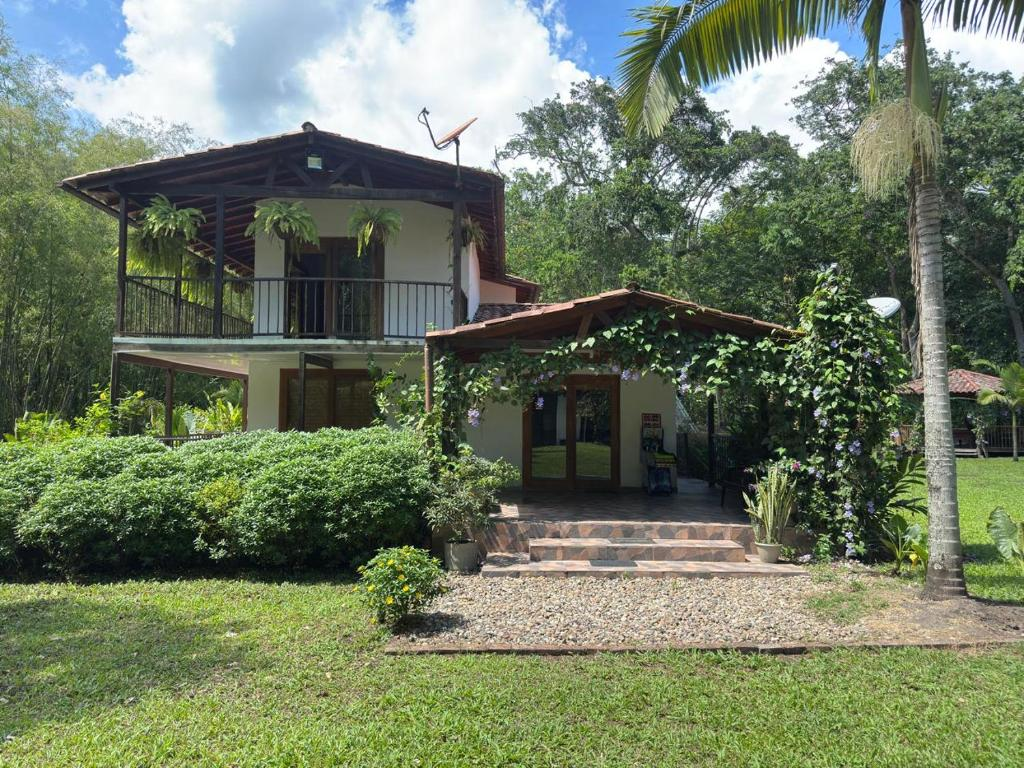House: (66, 71, 810, 527)
